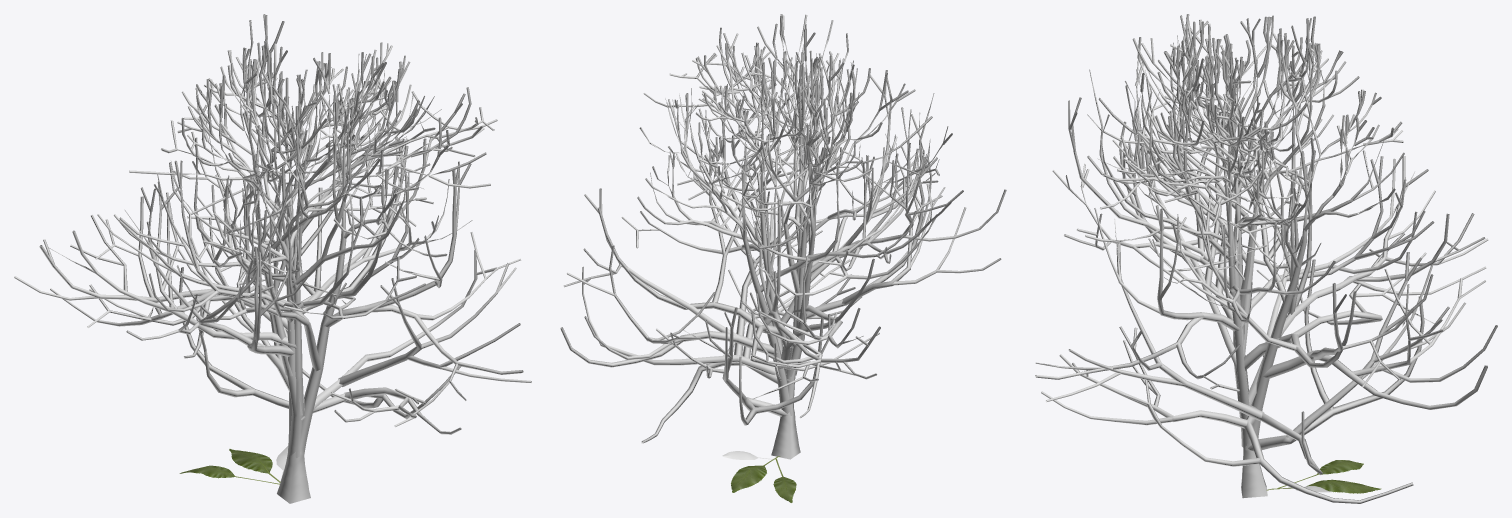
Rendered from tree.dae.
The picture shows the model from 3 angles, left to right: view 1: azimuth 30°, elevation 25°; view 2: azimuth 150°, elevation 25°; view 3: azimuth 270°, elevation 25°; orthographic projection. The views are drawn at different scales.
Visible parts, largest first — view 1: tree, Stamm, Blatt; view 2: tree, Stamm, Blatt; view 3: tree, Stamm, Blatt.
Boxes of the visible parts, bbox=[...] form: tree: bbox=[14, 14, 531, 434]; Stamm: bbox=[39, 129, 523, 503]; Blatt: bbox=[179, 446, 288, 484]; tree: bbox=[563, 14, 1006, 418]; Stamm: bbox=[560, 103, 925, 459]; Blatt: bbox=[722, 451, 796, 502]; tree: bbox=[1035, 14, 1497, 474]; Stamm: bbox=[1035, 119, 1487, 503]; Blatt: bbox=[1266, 460, 1381, 493].
Bounding box in the file's own units: 20.73 × 19.68 × 22.32.
1 material, 1 textured.
